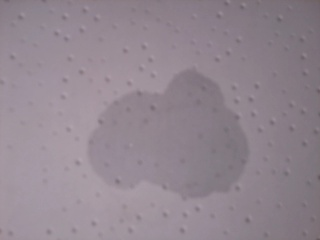Water_detected: (99, 83, 209, 180)
